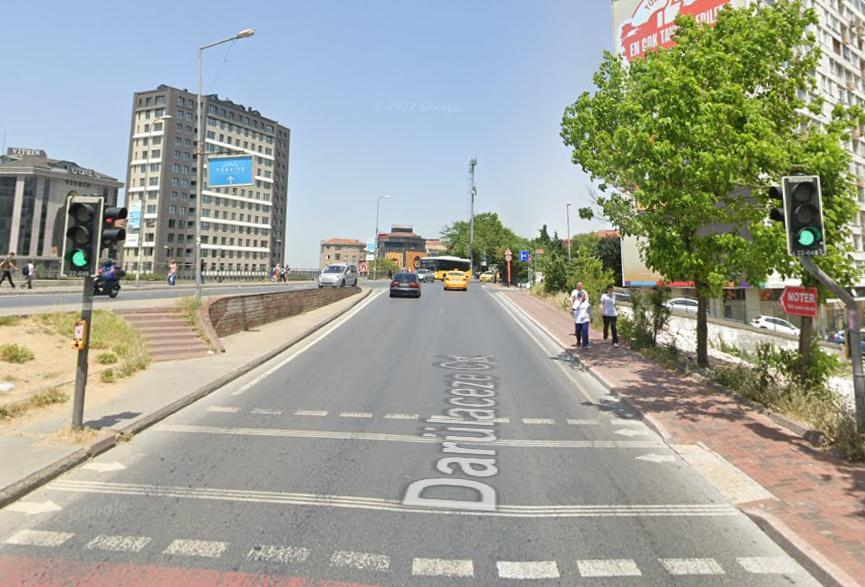greenlight: (785, 177, 826, 252), (66, 196, 92, 275)
